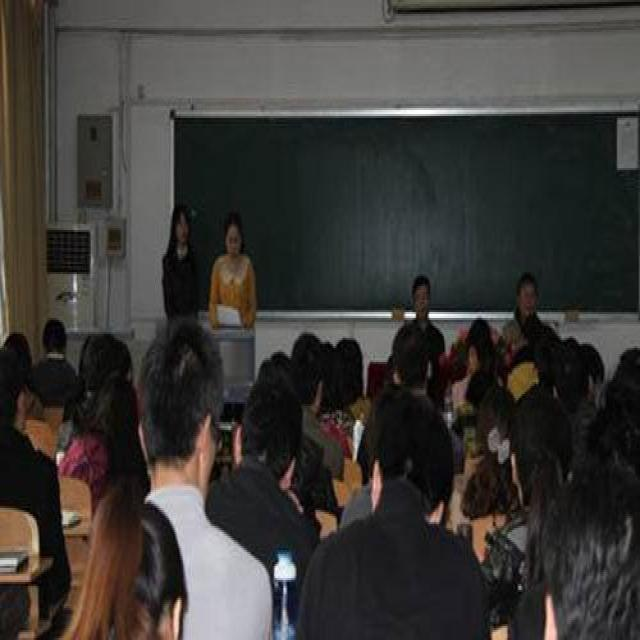head: (128, 320, 233, 482), (353, 386, 457, 532), (97, 488, 183, 638), (228, 362, 303, 478), (515, 390, 577, 516), (289, 328, 328, 414), (475, 380, 516, 458), (546, 336, 588, 410), (89, 330, 134, 396), (256, 344, 297, 416), (390, 316, 432, 386), (95, 374, 137, 438), (567, 326, 600, 402), (332, 334, 364, 404), (463, 320, 493, 370), (2, 324, 30, 376), (220, 210, 248, 258), (40, 312, 65, 356), (168, 204, 192, 246), (409, 270, 432, 312), (517, 270, 536, 316)
